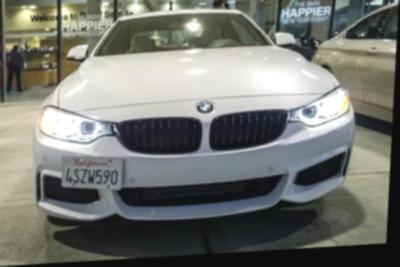License_Plate: (61, 151, 123, 192)
